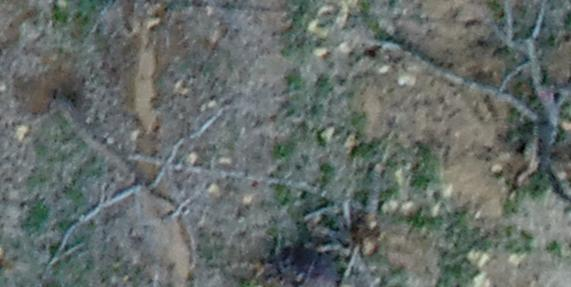apple: (29, 75, 297, 268)
